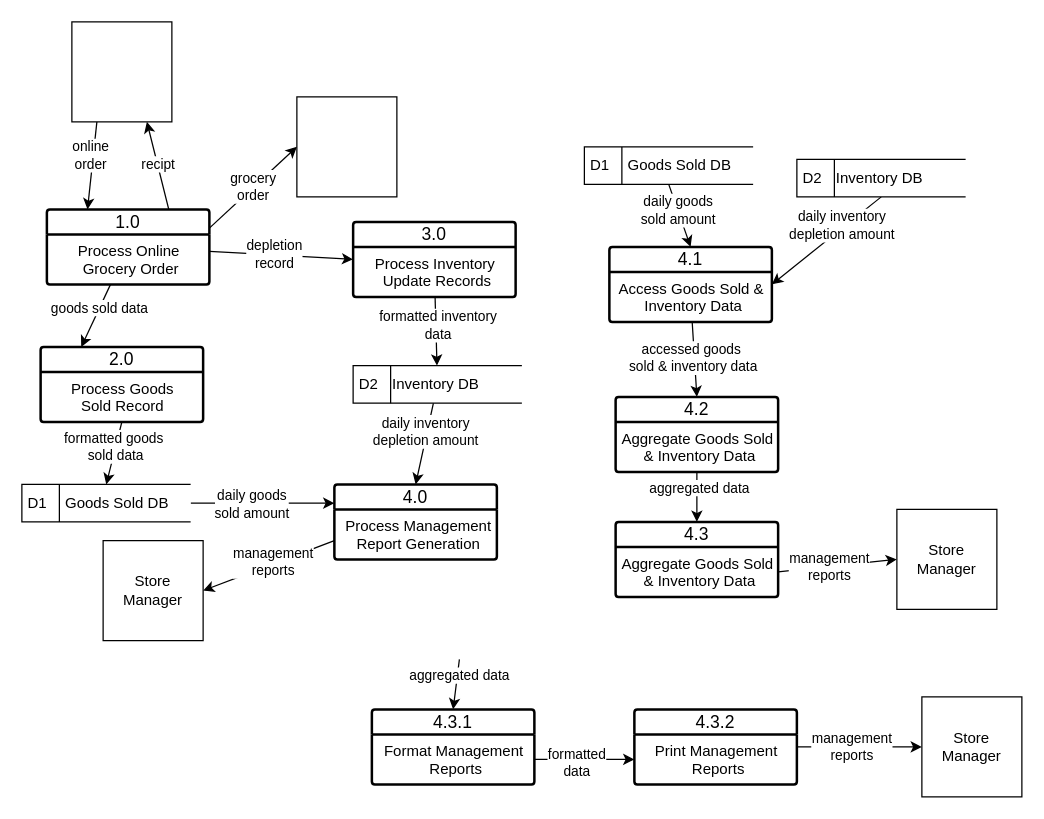
Image size: 1044x819. Some labels were removed from this diagram. The shapes that lost their labels are listed below. From the top down, each one's box as (x1, y1, x2, y2) in pixels, then its label:
(71, 21, 172, 122): Customer
(296, 96, 397, 197): Store Employee
